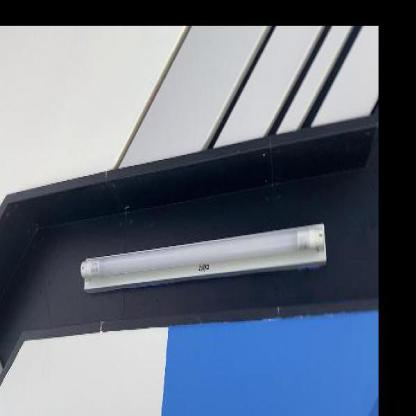light_off: (74, 205, 336, 308), (0, 336, 9, 416)
